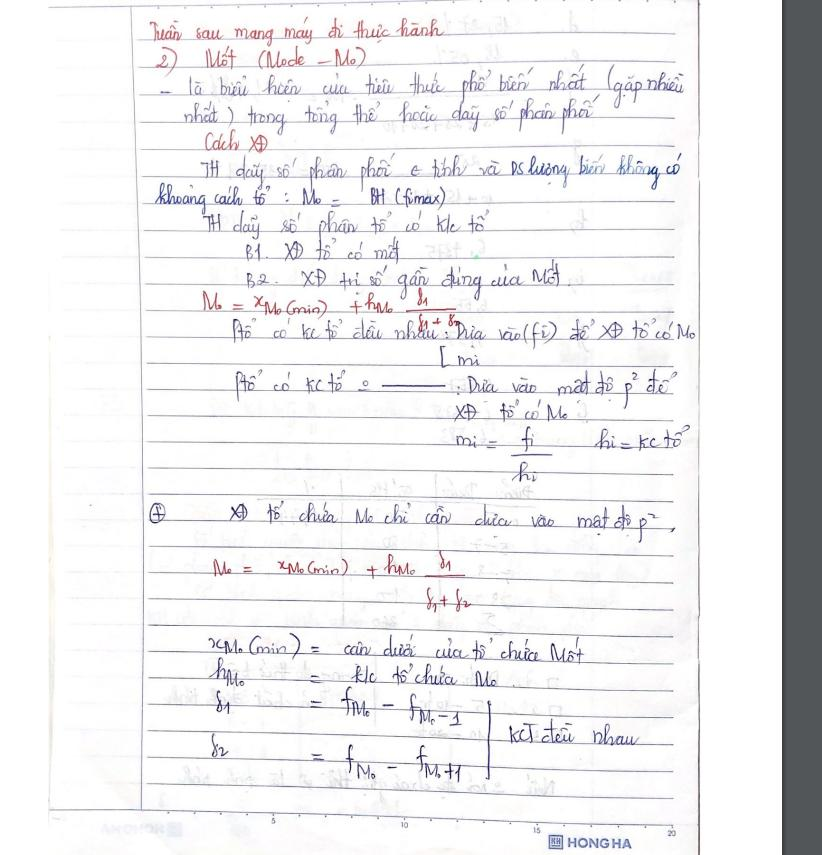text: (184, 63, 691, 109), (197, 149, 686, 191), (225, 500, 662, 546), (181, 91, 602, 137), (209, 545, 474, 617), (227, 314, 697, 351), (242, 257, 565, 300), (203, 632, 585, 665), (199, 286, 463, 332), (199, 208, 493, 246), (150, 180, 447, 216), (148, 15, 448, 48), (464, 366, 680, 411), (154, 43, 371, 79), (307, 739, 464, 787), (447, 424, 555, 486), (307, 689, 462, 729), (307, 661, 501, 690), (241, 233, 401, 267), (230, 367, 373, 402), (504, 715, 641, 747), (449, 398, 572, 427), (589, 423, 691, 453), (201, 128, 269, 157), (206, 656, 246, 688), (566, 834, 633, 850), (207, 731, 232, 762), (212, 689, 233, 718), (456, 353, 484, 369)
